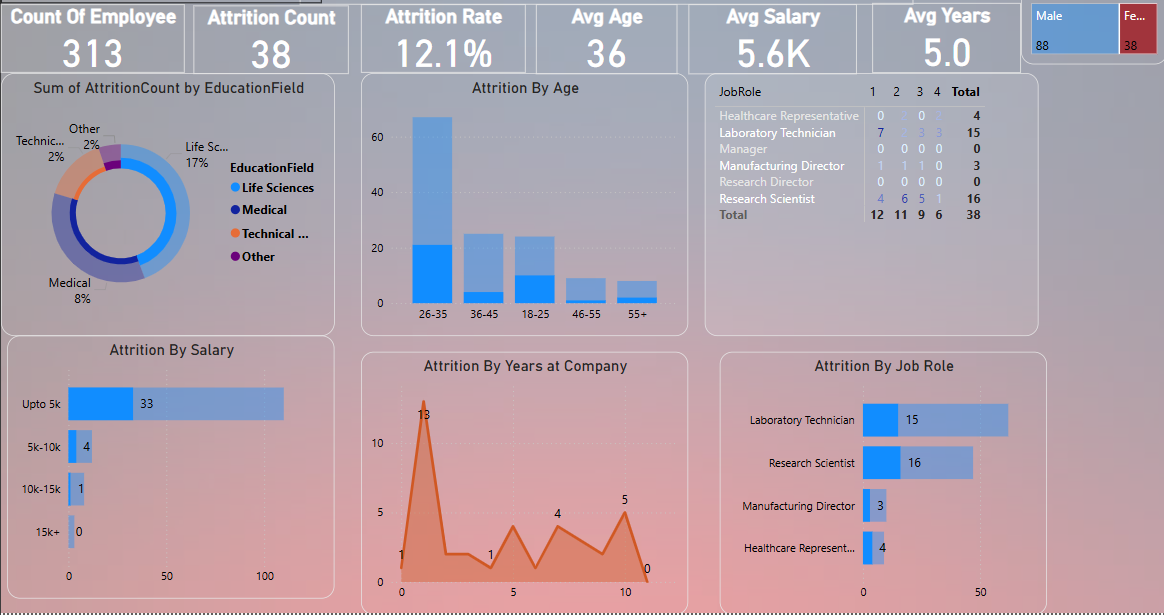

Layout of this report page (visuals, bound fields, positions):
{"tool":"powerbi","page":{"name":"Page 1","canvas":[1280,720],"ordinal":0},"visuals":[{"type":"card","title":"Count Of Employee","fields":{"Values":["CountNonNull(HR_Analytics.EmpID)"]},"box":[0,58.3,201.8,75.3],"z":0},{"type":"card","title":"Attrition Count","fields":{"Values":["Sum(HR_Analytics.AttritionCount)"]},"box":[224.5,51.2,170.5,75.3],"z":1000},{"type":"card","title":"Attrition Rate","fields":{"Values":["HR_Analytics.Attrition Rate"]},"box":[395,51.2,180.5,75.3],"z":2000},{"type":"card","title":"Avg Age","fields":{"Values":["Avg(HR_Analytics.Age)"]},"box":[586.9,51.2,154.9,76.7],"z":3000},{"type":"card","title":"Avg Salary","fields":{"Values":["Avg(HR_Analytics.MonthlyIncome)"]},"box":[754.5,51.2,184.7,76.7],"z":4000},{"type":"card","title":"Avg Years","fields":{"Values":["Avg(HR_Analytics.YearsAtCompany)"]},"box":[956.3,49.7,163.4,76.7],"z":5000},{"type":"donutChart","fields":{"Category":["HR_Analytics.EducationField"],"Y":["Sum(HR_Analytics.AttritionCount)"]},"box":[0,126.5,366.6,288.5],"z":6000},{"type":"columnChart","title":"Attrition By Age","fields":{"Category":["HR_Analytics.AgeGroup"],"Y":["Sum(HR_Analytics.AttritionCount)"]},"box":[395,126.5,359.5,288.5],"z":7000},{"type":"pivotTable","fields":{"Rows":["HR_Analytics.JobRole"],"Columns":["HR_Analytics.JobSatisfaction"],"Values":["Sum(HR_Analytics.AttritionCount)"]},"box":[773,126.5,366.6,288.5],"z":8000},{"type":"barChart","title":"Attrition By Salary","fields":{"Category":["HR_Analytics.SalarySlab"],"Y":["Sum(HR_Analytics.AttritionCount)"]},"box":[7.1,414.9,359.5,288.5],"z":9000},{"type":"barChart","title":"Attrition By Job Role","fields":{"Y":["Sum(HR_Analytics.AttritionCount)"],"Category":["HR_Analytics.JobRole"]},"box":[788.6,432,359.5,288.5],"z":10000},{"type":"areaChart","title":"Attrition By Years at Company","fields":{"Category":["HR_Analytics.YearsAtCompany"],"Y":["Sum(HR_Analytics.AttritionCount)"]},"box":[395,432,359.5,288.5],"z":11000},{"type":"treemap","title":"Attrition By Gender","fields":{"Group":["HR_Analytics.Gender"],"Values":["Sum(HR_Analytics.AttritionCount)"]},"box":[1119.7,0,160.6,116.5],"z":13000},{"type":"slicer","fields":{"Values":["HR_Analytics.Department"]},"box":[328.2,0,673.5,51.2],"z":13001},{"type":"textbox","box":[0,0,352.4,49.7],"z":13002}]}

Visuals, with their boxes in screenshot pixels (x1, y1, x2, y2):
"Count Of Employee" card: bbox=(0, 10, 183, 79)
"Attrition Count" card: bbox=(203, 4, 358, 72)
"Attrition Rate" card: bbox=(358, 4, 521, 72)
"Avg Age" card: bbox=(532, 4, 672, 73)
"Avg Salary" card: bbox=(684, 4, 851, 73)
"Avg Years" card: bbox=(866, 3, 1014, 72)
donutChart - HR_Analytics.EducationField x Sum(HR_Analytics.AttritionCount): bbox=(0, 72, 332, 334)
"Attrition By Age" columnChart: bbox=(358, 72, 684, 334)
pivotTable - HR_Analytics.JobRole x HR_Analytics.JobSatisfaction: bbox=(700, 72, 1032, 334)
"Attrition By Salary" barChart: bbox=(6, 333, 332, 595)
"Attrition By Job Role" barChart: bbox=(714, 349, 1040, 610)
"Attrition By Years at Company" areaChart: bbox=(358, 349, 684, 610)
"Attrition By Gender" treemap: bbox=(1014, 0, 1160, 63)
slicer - HR_Analytics.Department: bbox=(297, 0, 907, 4)
textbox: bbox=(0, 0, 319, 3)
